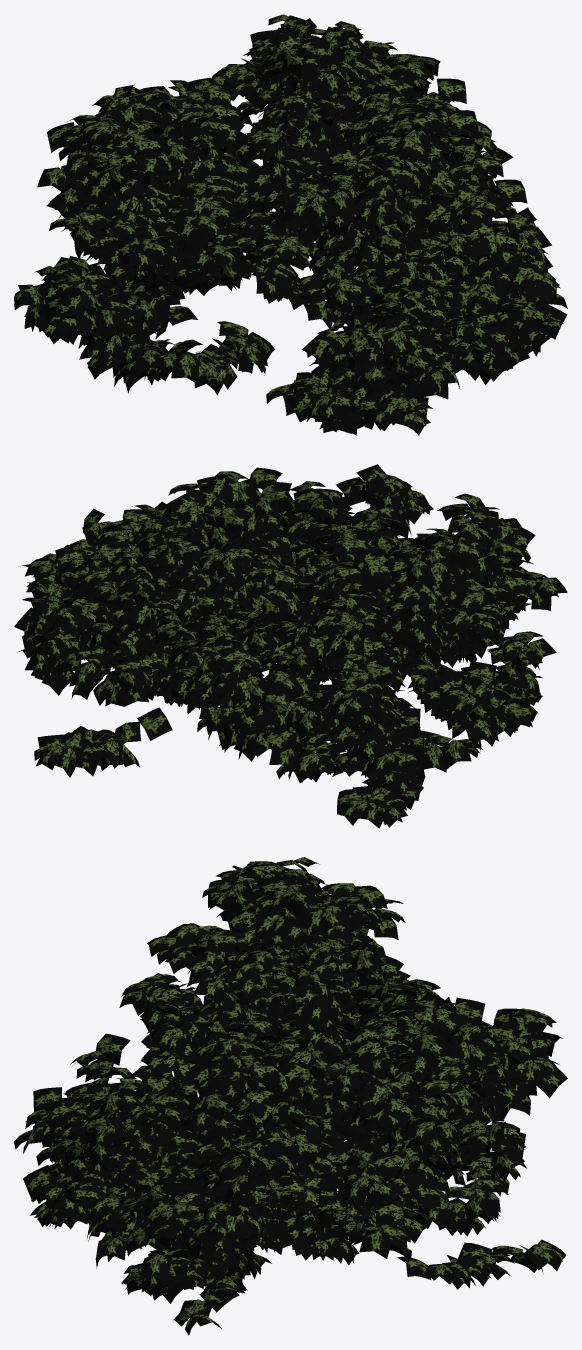
Rendered from SM_MightyOak_Foliage.fbx.
3 views of the same model, one above another, from view 1: azimuth 30°, elevation 25°; view 2: azimuth 150°, elevation 25°; view 3: azimuth 270°, elevation 25° (orthographic). The views are drawn at different scales.
Parts seen in each view (by area): view 1: SM_MightyOak_Foliage; view 2: SM_MightyOak_Foliage; view 3: SM_MightyOak_Foliage.
Boxes of the visible parts, x1,y1,x2,y2 form: SM_MightyOak_Foliage: (14,14,567,435); SM_MightyOak_Foliage: (14,464,567,828); SM_MightyOak_Foliage: (14,857,567,1335).
Size of the model in its own units: 14.56 by 8.78 by 13.5.
1 material, 1 textured.
